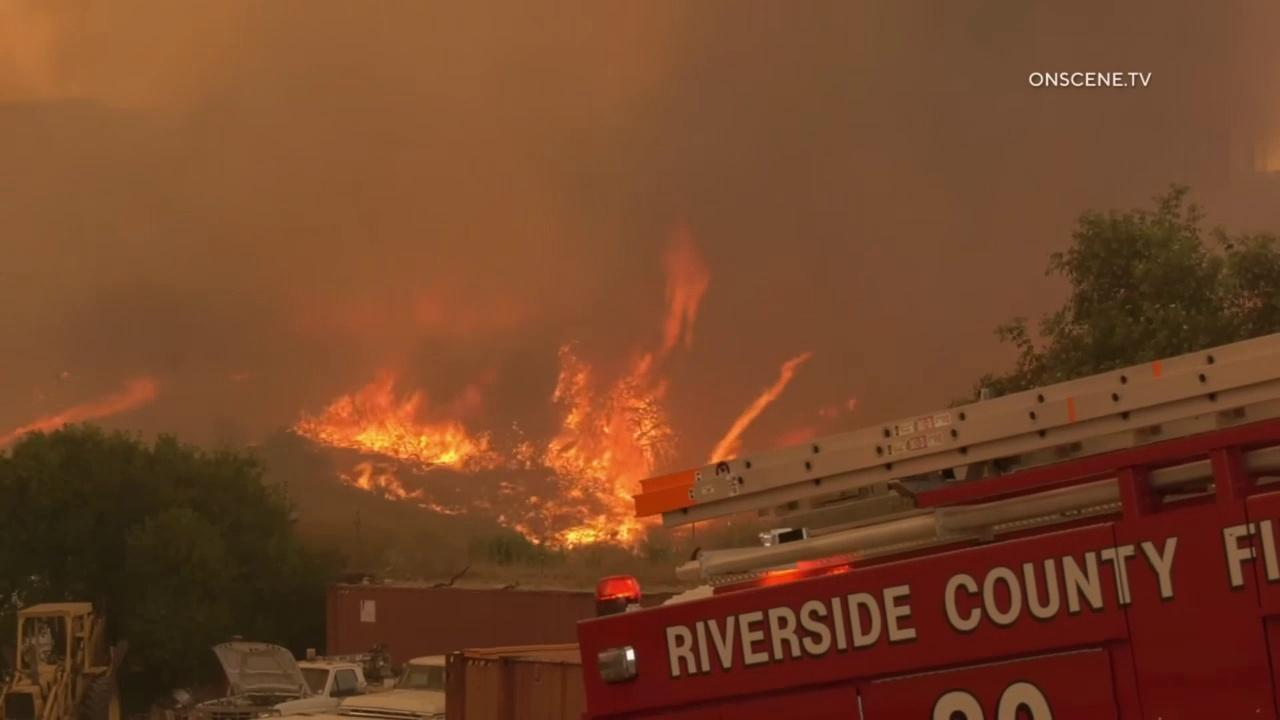fire: (287, 207, 818, 559), (0, 369, 161, 451)
smoke: (0, 0, 1280, 508)
